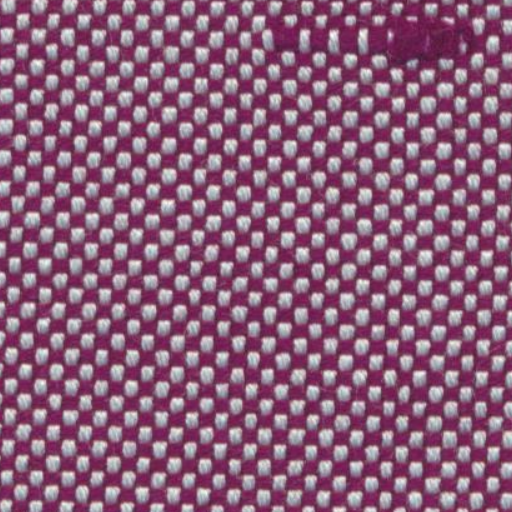DaiSha: (240, 8, 488, 74)
